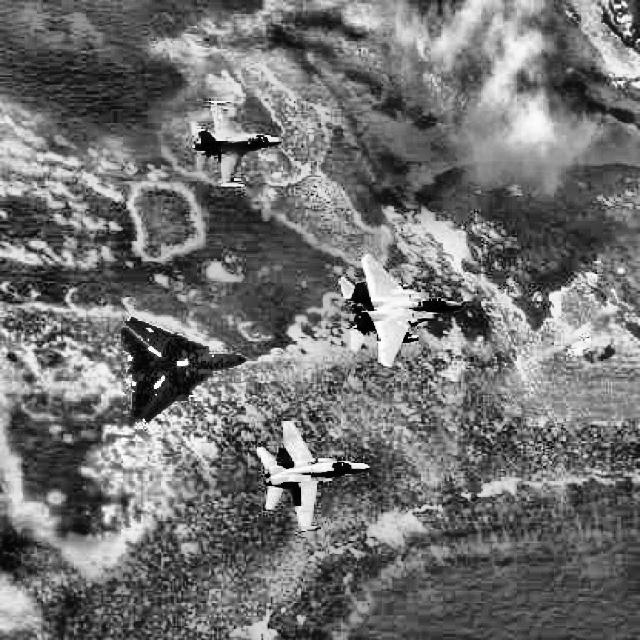F14: (120, 315, 248, 423)
F15: (337, 253, 463, 369)
F16: (189, 97, 282, 189)
F18: (256, 416, 370, 533)
